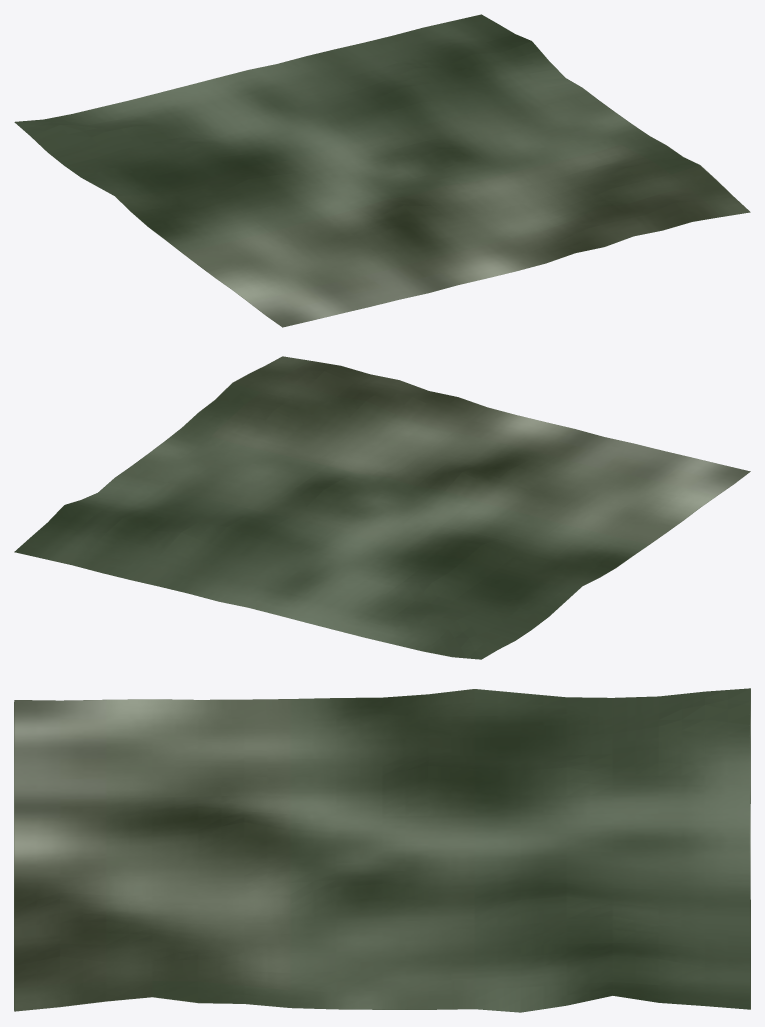
3 renders of one model, top to bottom at view 1: azimuth 30°, elevation 25°; view 2: azimuth 150°, elevation 25°; view 3: azimuth 270°, elevation 25°, orthographic. The views are drawn at different scales.
Size of the model in its own units: 15586 by 476 by 15509.
1 material, 1 textured.
